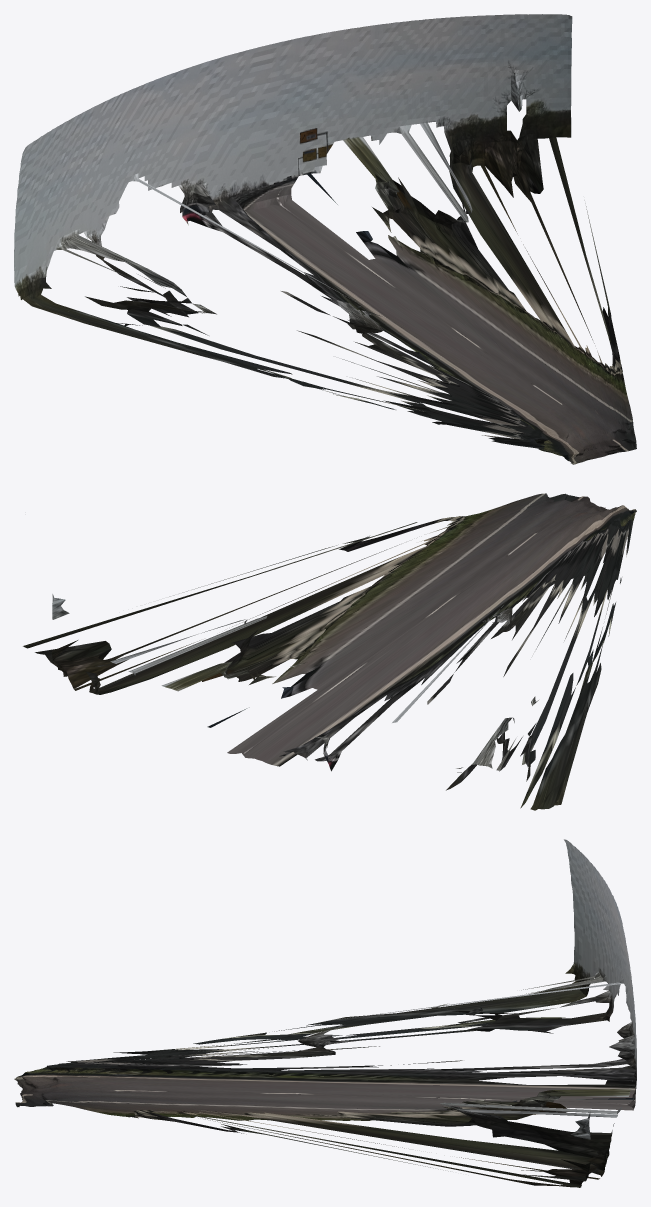
The picture shows the model from 3 angles, top to bottom: view 1: azimuth 30°, elevation 25°; view 2: azimuth 150°, elevation 25°; view 3: azimuth 270°, elevation 25°; orthographic projection. The views are drawn at different scales.
Visible parts, largest first — view 1: defaultobject; view 2: defaultobject; view 3: defaultobject.
Part boxes in pixels (x1,y1,x2,y2): defaultobject: [14, 14, 636, 464]; defaultobject: [23, 493, 636, 810]; defaultobject: [14, 839, 636, 1187].
Bounding box in the file's own units: 41.16 × 13.19 × 44.6.
Materials: 1 (1 with a texture image).
